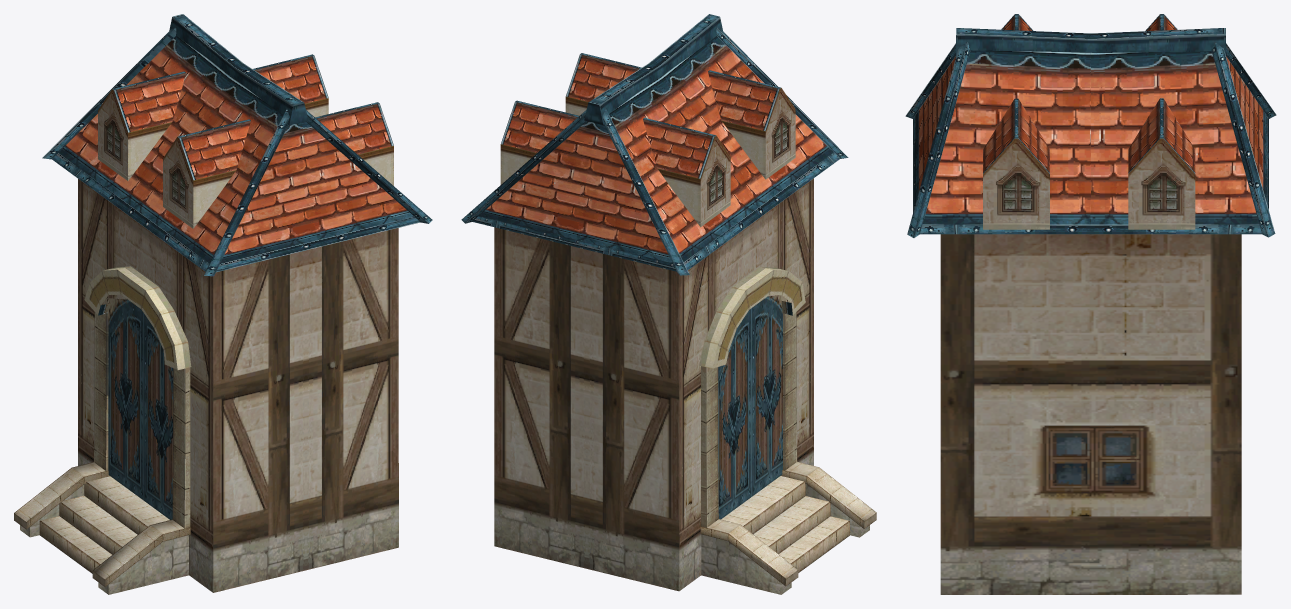
3 views of the same model, side by side, from view 1: azimuth 30°, elevation 25°; view 2: azimuth 150°, elevation 25°; view 3: azimuth 270°, elevation 25° (orthographic). The views are drawn at different scales.
Parts seen in each view (by area): view 1: geom_node_0; view 2: geom_node_0; view 3: geom_node_0.
Boxes of the visible parts, x1,y1,x2,y2 form: geom_node_0: (14,14,432,594); geom_node_0: (461,14,876,594); geom_node_0: (905,14,1276,594).
Size of the model in its own units: 5.19 by 7.81 by 5.12.
Materials: 4 (4 with a texture image).
